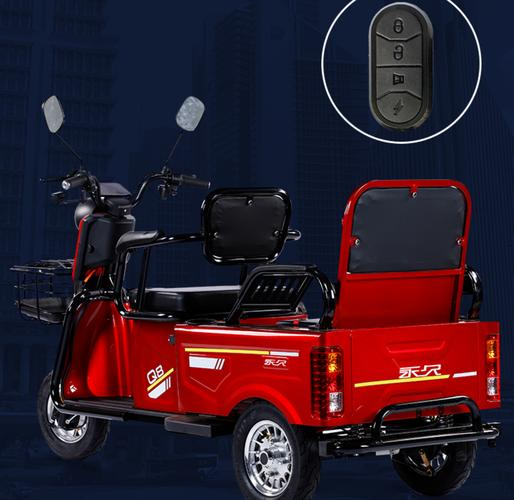empty: (16, 96, 505, 492)
